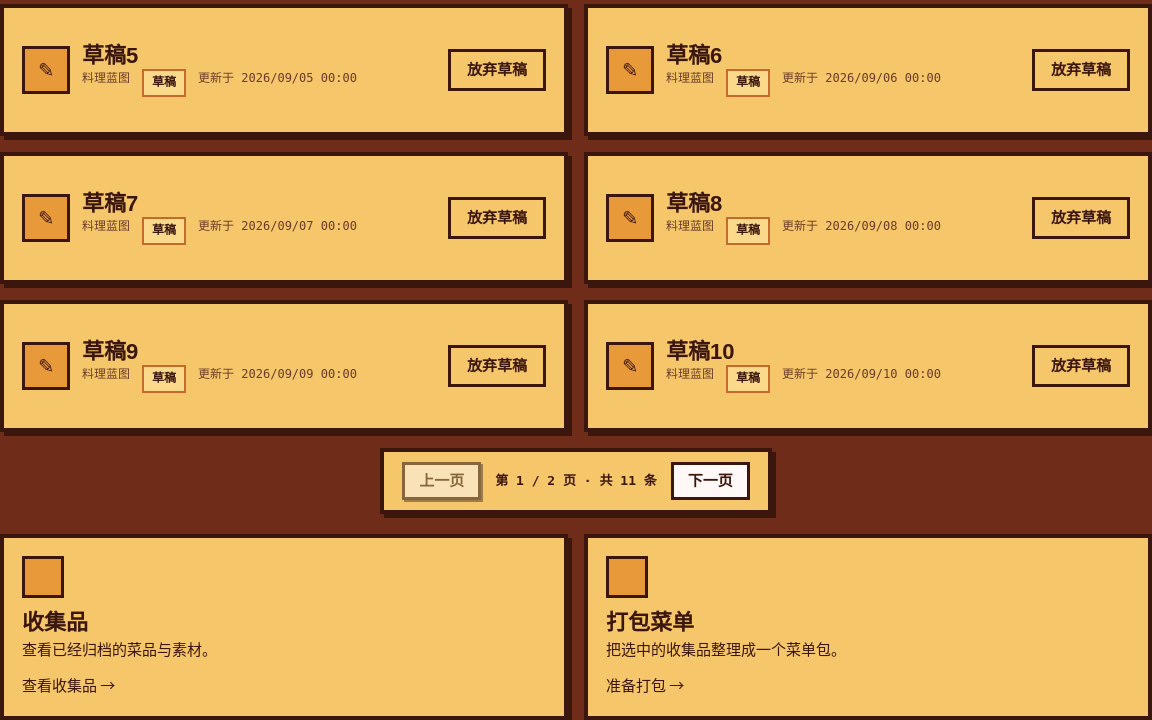
Test: home page draft pagination and sorting (M13 Task 57) › pages through more than one page of drafts with previous/next
(page scrolled)
Expected: the heading "草稿11" is not shown
Expected: the button "上一页" is disabled, [402,462,481,500]
Click the button "下一页". click: coordinates (710, 481)
box: [671,462,750,500]
(page scrolled)
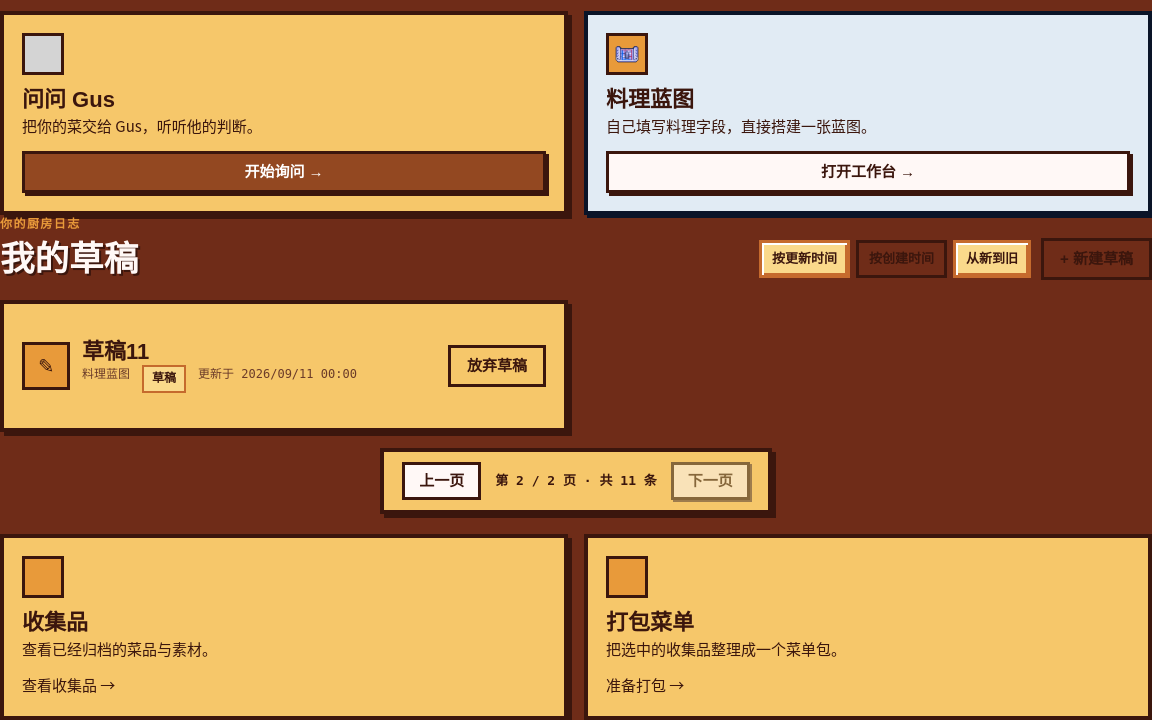
Expected: the heading "草稿11" is shown, [82,339,149,364]
Expected: the button "下一页" is disabled, [671,462,750,500]
Click the button "上一页". click: coordinates (442, 481)
box: [402,462,481,500]
(page scrolled)
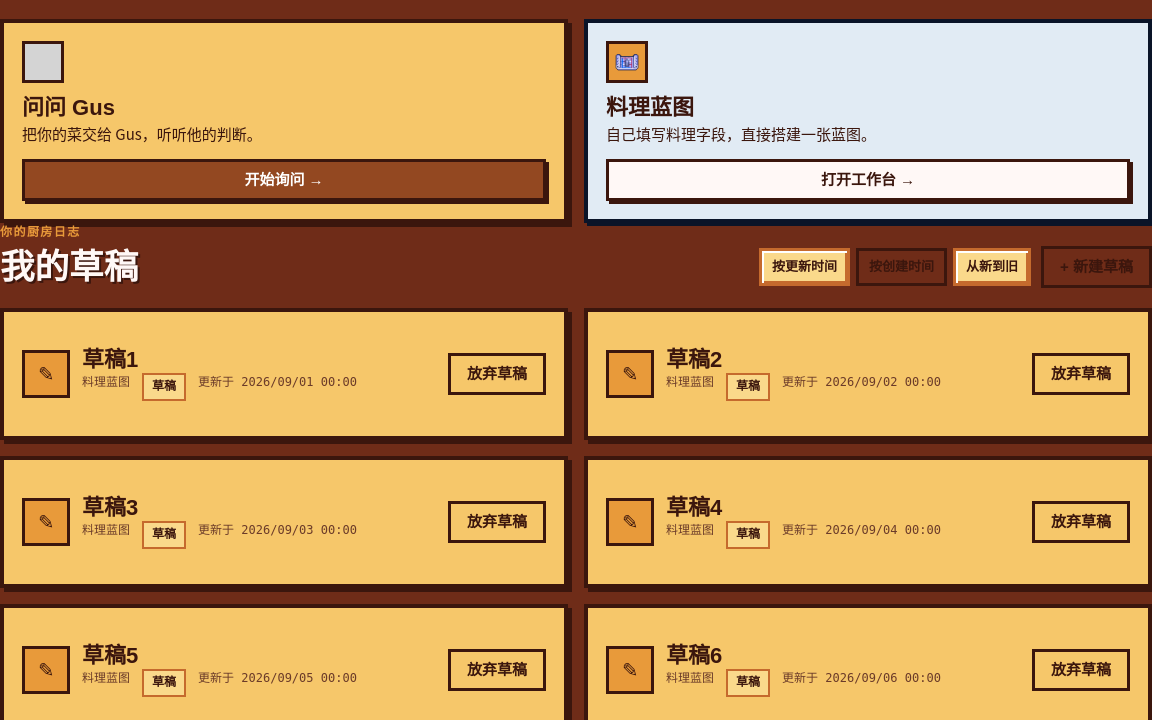
Expected: the heading "草稿1" is shown, [82,347,138,372]
